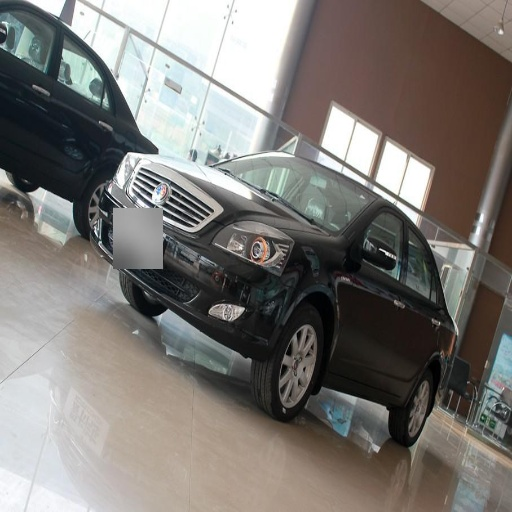front_left_door: (355, 215, 403, 288)
